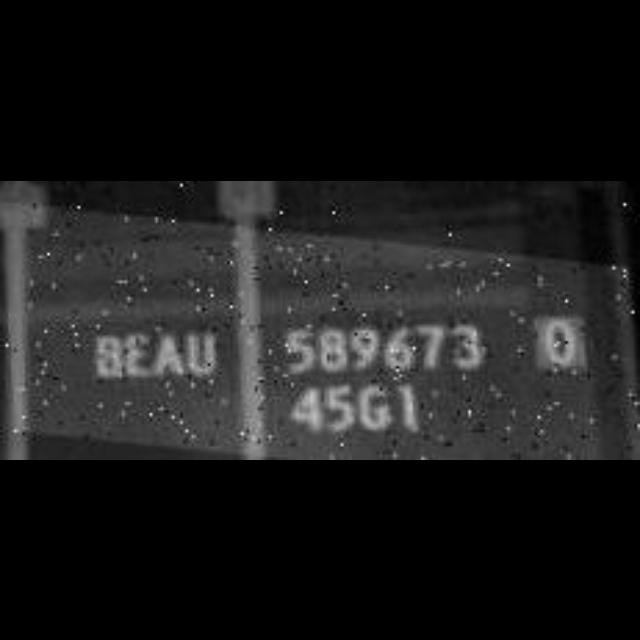0: (540, 316, 580, 366)
1: (393, 380, 422, 434)
3: (450, 319, 486, 377)
4: (290, 384, 326, 436)
5: (281, 324, 317, 376), (326, 381, 354, 433)
6: (382, 322, 416, 376)
7: (415, 321, 445, 372)
8: (317, 324, 349, 376)
9: (351, 324, 382, 376)
a: (152, 326, 184, 386)
b: (92, 328, 124, 382)
e: (126, 328, 154, 384)
g: (358, 381, 392, 433)
u: (186, 326, 220, 380)
